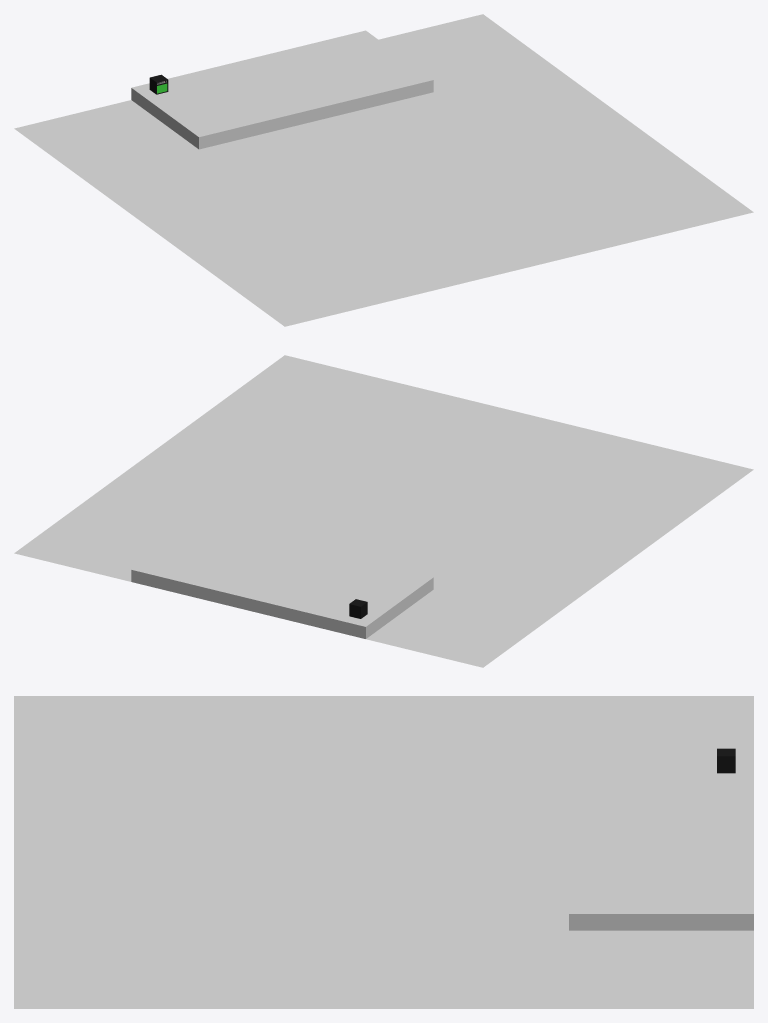
Rendered from legit-stage-2017.DAE.
The picture shows the model from 3 angles, top to bottom: view 1: azimuth 30°, elevation 25°; view 2: azimuth 150°, elevation 25°; view 3: azimuth 270°, elevation 25°; orthographic projection. The views are drawn at different scales.
Parts seen in each view (by area): view 1: Floor, Stage; view 2: Floor, Stage; view 3: Floor, Stage.
Boxes of the visible parts, x1,y1,x2,y2 form: Floor: (14, 14, 753, 326); Stage: (131, 30, 433, 149); Floor: (14, 355, 753, 667); Stage: (131, 520, 433, 638); Floor: (14, 696, 753, 1008); Stage: (569, 757, 753, 930).
Bounding box in the file's own units: 400 × 20 × 400.
